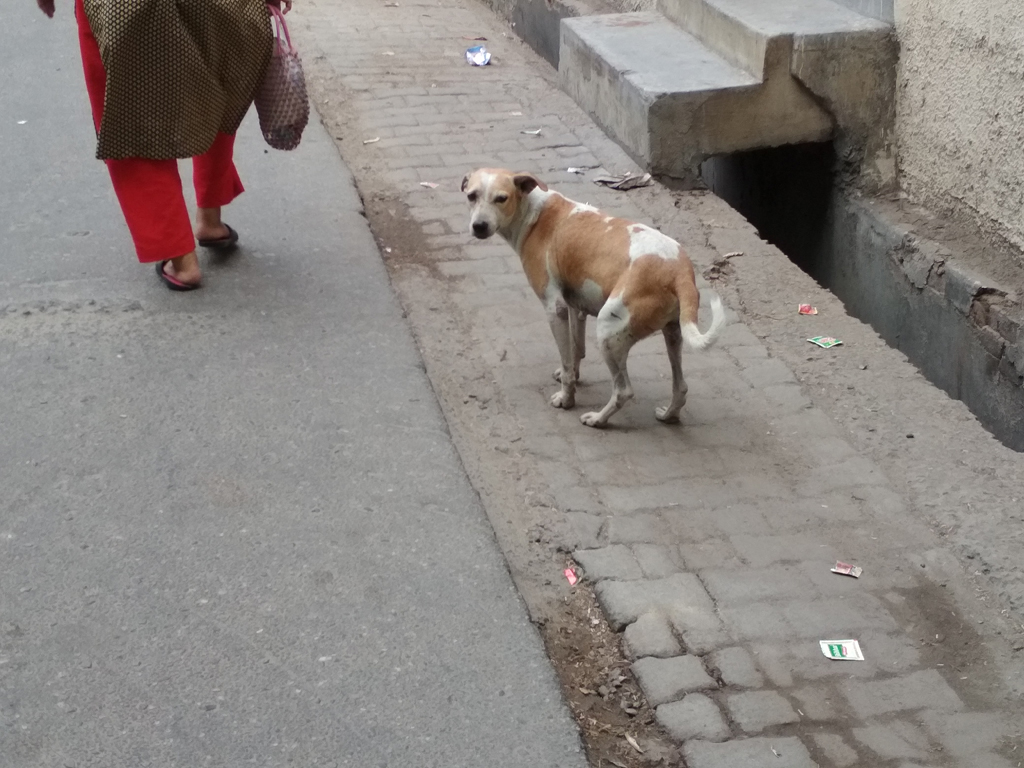dog: (460, 167, 725, 429)
